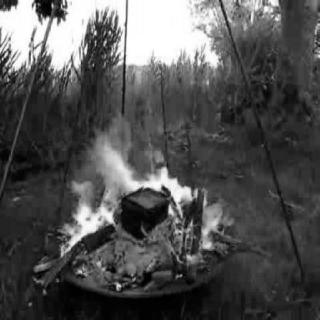Fire: (53, 84, 237, 284)
